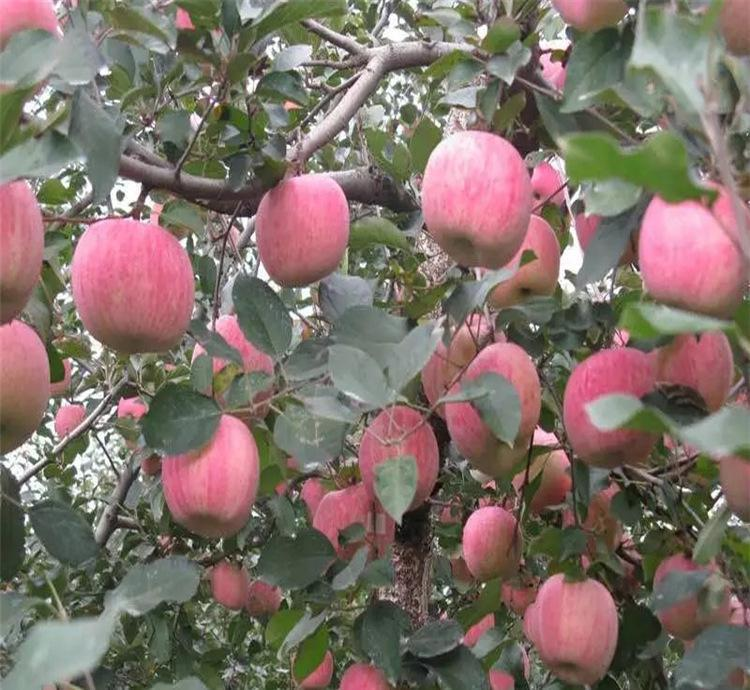apple: (69, 217, 196, 354), (419, 128, 534, 271), (638, 193, 747, 315), (156, 416, 263, 535), (449, 344, 544, 471), (254, 173, 353, 289), (564, 350, 659, 469), (535, 574, 617, 685), (360, 408, 439, 514), (1, 318, 59, 450), (1, 177, 44, 325)
